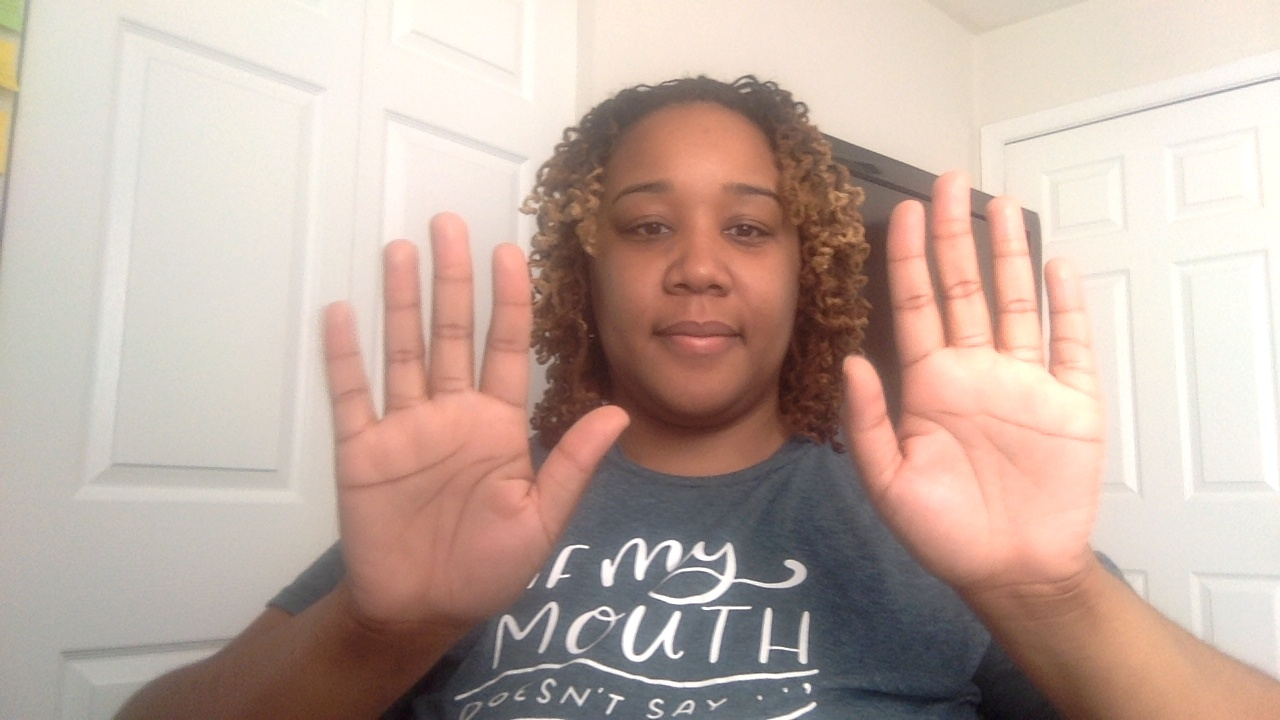great: (310, 67, 1127, 647)
